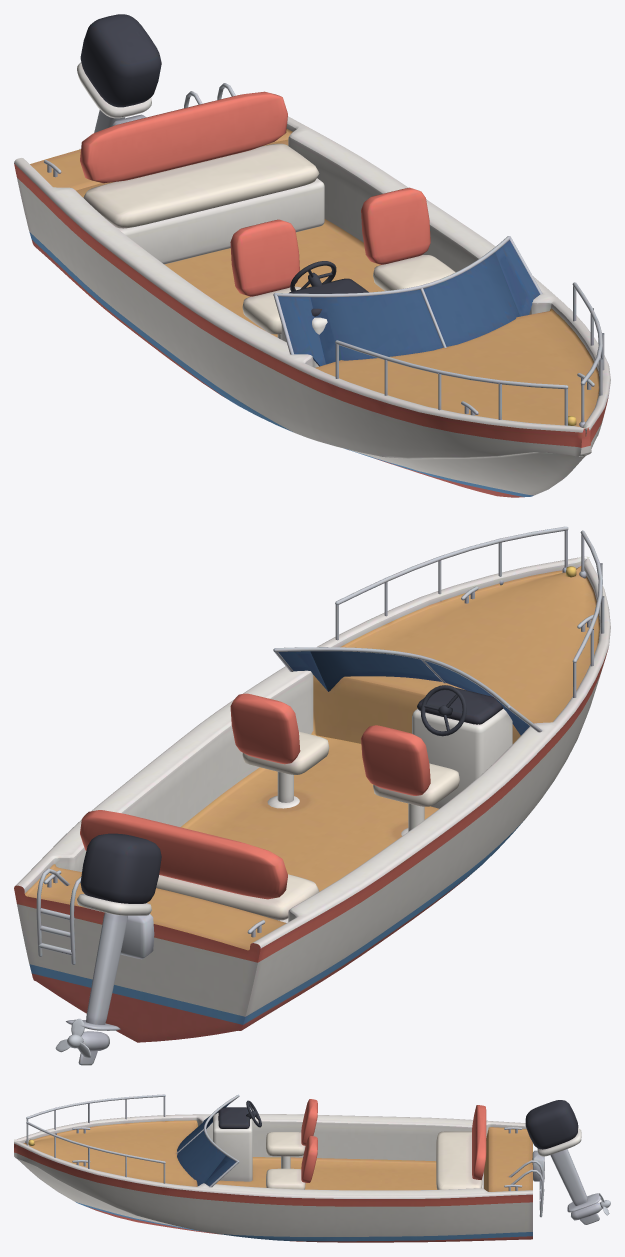
File: motorboat.glb
3 views of the same model, one above another, from view 1: azimuth 30°, elevation 25°; view 2: azimuth 150°, elevation 25°; view 3: azimuth 270°, elevation 25° (orthographic). The views are drawn at different scales.
Visible parts, largest first — view 1: motorboat_body, motorboat_steering_wheel; view 2: motorboat_body, motorboat_steering_wheel; view 3: motorboat_body, motorboat_steering_wheel.
Part boxes in pixels (x1=…): motorboat_body: x1=14, y1=14, x2=610, y2=497; motorboat_steering_wheel: x1=290, y1=261, x2=336, y2=291; motorboat_body: x1=14, y1=526, x2=610, y2=1065; motorboat_steering_wheel: x1=420, y1=685, x2=466, y2=736; motorboat_body: x1=14, y1=1094, x2=601, y2=1242; motorboat_steering_wheel: x1=246, y1=1100, x2=261, y2=1127.
Bounding box in the file's own units: 2.46 × 1.83 × 7.53.
Materials: 3 (1 with a texture image).
